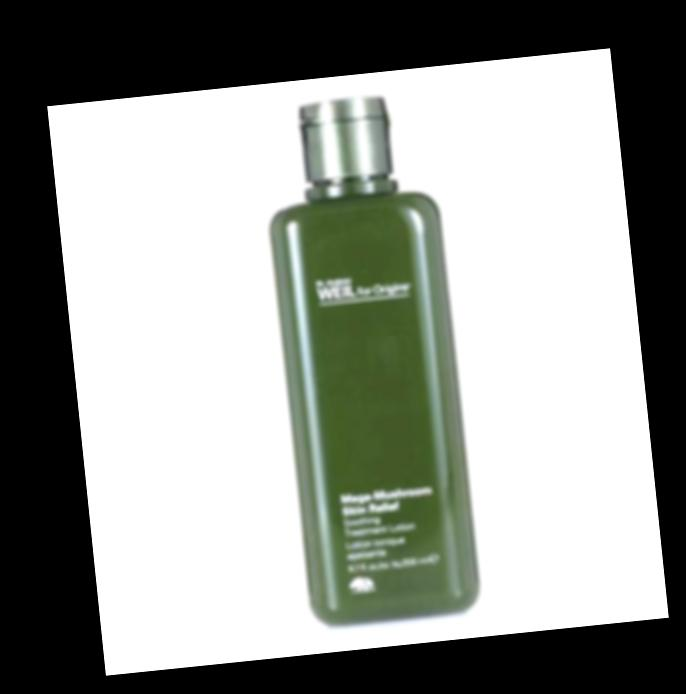cosmetic: (254, 84, 484, 633)
